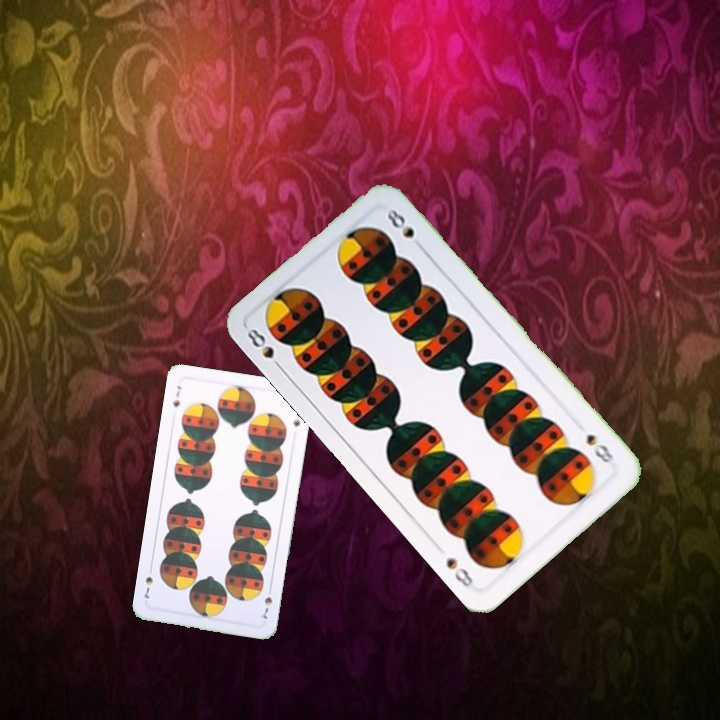S7: (259, 583, 275, 621), (169, 382, 184, 409)
S8: (243, 324, 287, 374), (582, 429, 619, 471)
